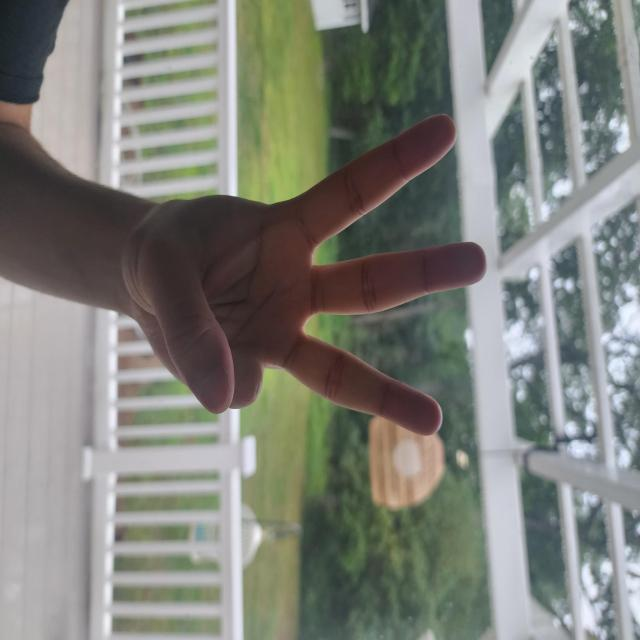W: (240, 204, 492, 640)
